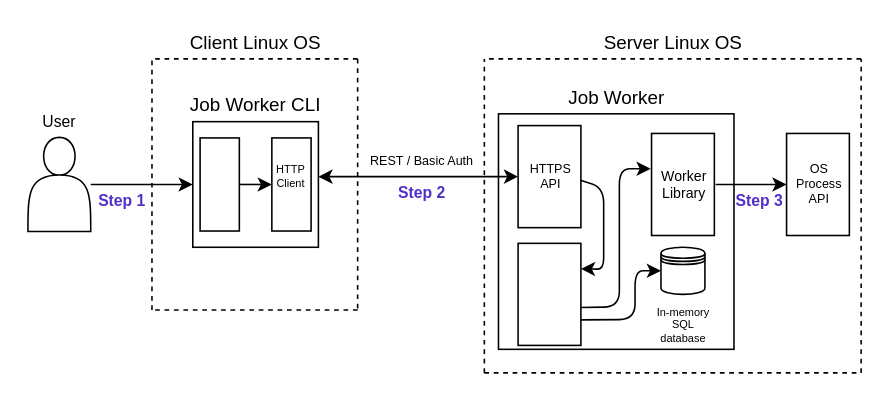
The diagram is 890 pixels wide and 402 high, and some of its shapes have lost their labels. Here are the shapes that lost their labels. From the top down, the centre of each, then its label:
the point at 219,183: Cmd Parser
the point at 549,293: Internals
